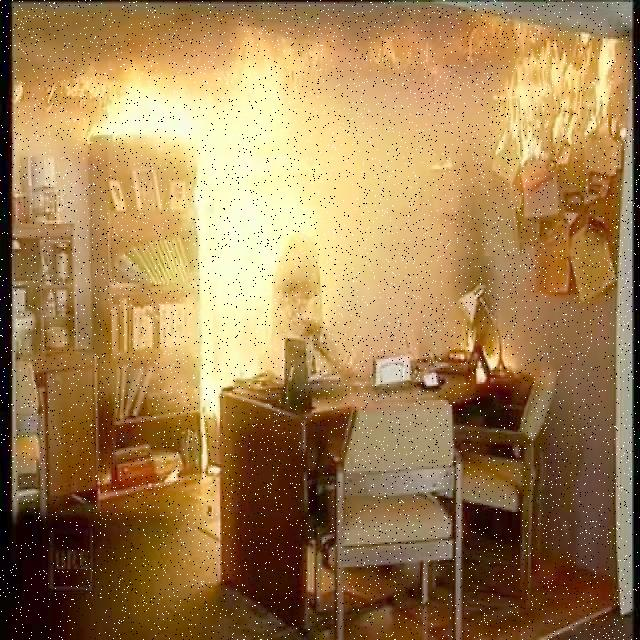fire: (71, 54, 338, 357), (489, 13, 628, 180)
